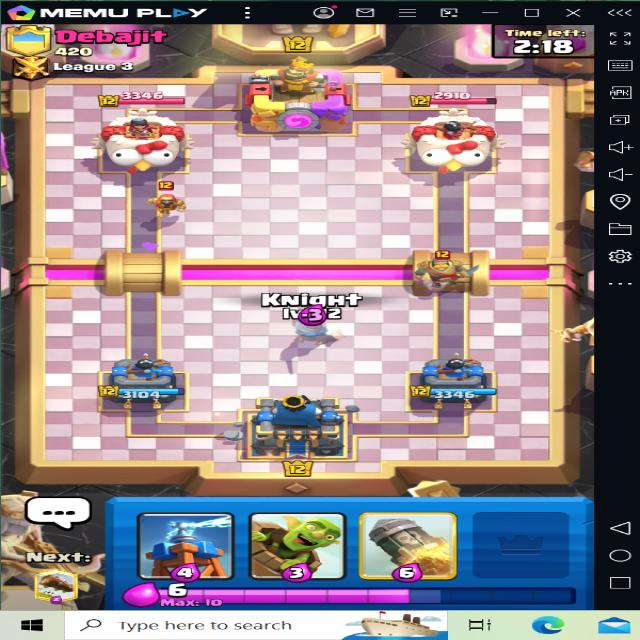knight: (403, 244, 495, 298)
wizard: (139, 170, 200, 224)
